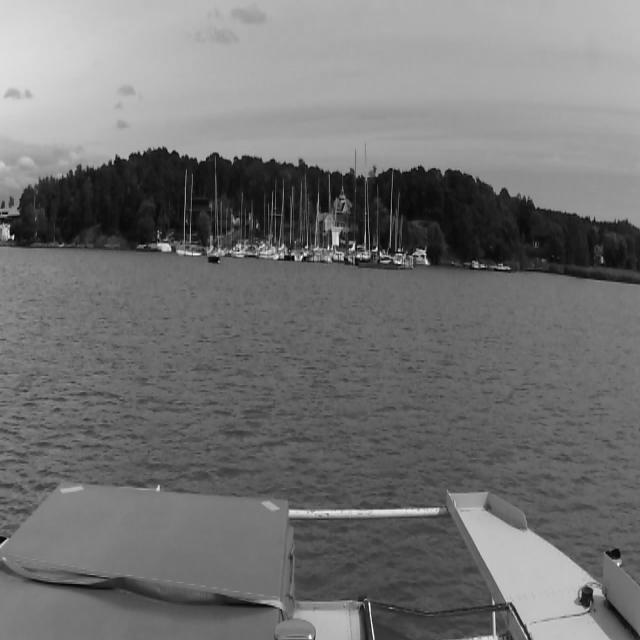ship: (355, 116, 373, 265), (173, 171, 200, 257), (261, 172, 279, 266), (290, 158, 304, 266), (210, 176, 222, 255), (312, 188, 324, 260), (377, 250, 399, 266), (235, 205, 241, 256), (410, 247, 430, 261), (208, 252, 220, 262)
